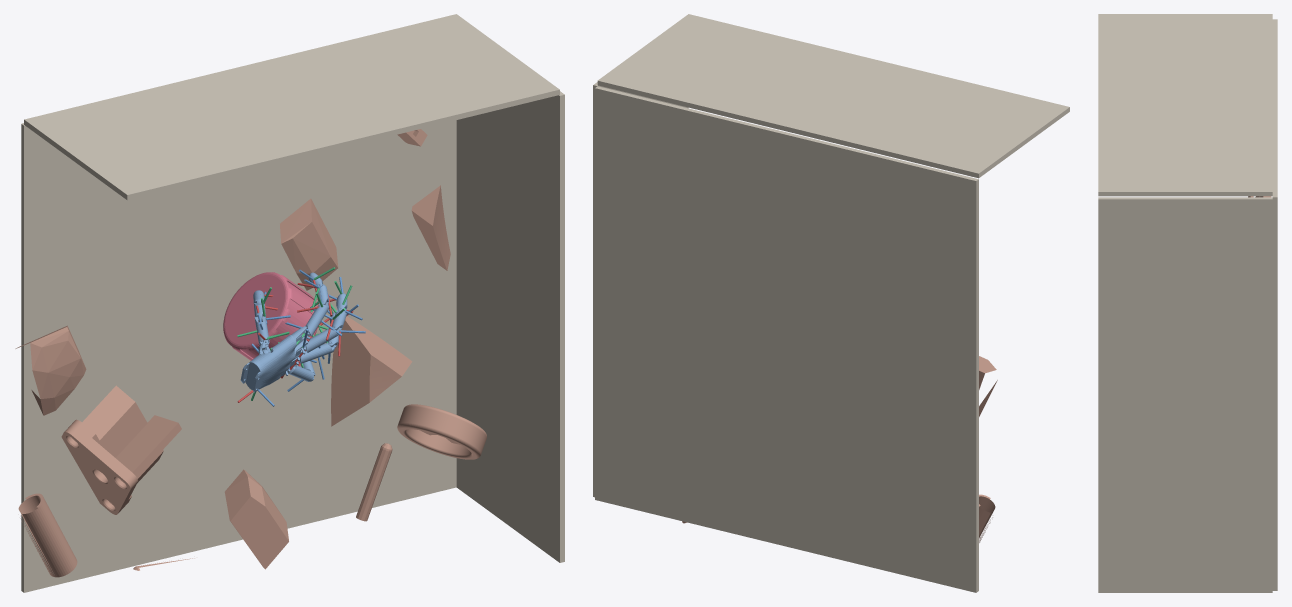
3 views of the same model, side by side, from view 1: azimuth 30°, elevation 25°; view 2: azimuth 150°, elevation 25°; view 3: azimuth 270°, elevation 25° (orthographic). The views are drawn at different scales.
Visible parts, largest first — view 1: environment, local_object_009, local_object_001, hand, target_object, local_object_002, local_object_005, local_object_007, local_object_003, local_object_000, local_object_008, local_object_010; view 2: environment; view 3: environment.
Part boxes in pixels (x1,y1,x2,y2): environment: (21,14,564,592); local_object_009: (61,385,181,514); local_object_001: (331,316,412,426); hand: (240,272,347,392); target_object: (223,272,317,360); local_object_002: (224,469,288,569); local_object_005: (397,404,486,459); local_object_007: (15,325,86,415); local_object_003: (280,198,338,290); local_object_000: (18,493,77,577); local_object_008: (411,185,450,270); local_object_010: (356,443,392,521); environment: (593,14,1069,592); environment: (1098,14,1277,592).
Size of the model in its own units: 0.7102 by 0.7307 by 0.2885.
